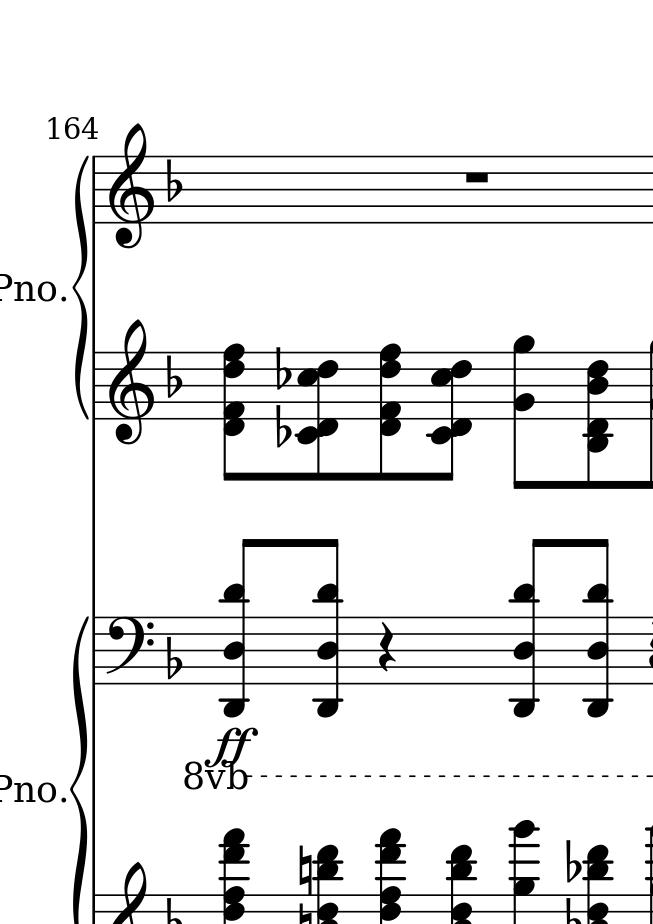1: (47, 116, 60, 142)
4: (82, 114, 100, 144)
6: (63, 114, 80, 140)
8_2_9: (511, 334, 534, 491)
8_4th: (425, 351, 472, 483), (296, 351, 342, 483), (582, 349, 613, 488), (378, 342, 402, 483), (222, 341, 245, 484)
8_th: (219, 537, 265, 719), (511, 538, 549, 717), (312, 537, 344, 720), (584, 537, 616, 718)
Brace: (75, 152, 92, 420)
Fclef: (103, 615, 154, 688)
Flat: (163, 157, 185, 206), (163, 354, 185, 401), (271, 343, 292, 392), (562, 837, 584, 883), (163, 633, 184, 680), (274, 404, 292, 450)
Gclef: (106, 122, 157, 251), (106, 319, 155, 447)
Natural: (297, 842, 314, 896)
Pno: (1, 271, 57, 306), (1, 772, 57, 807)
Rests1: (461, 167, 493, 187)
Rests4: (375, 620, 399, 676)
Single_barline: (88, 616, 103, 684), (89, 157, 102, 223), (89, 353, 102, 418), (88, 895, 101, 924)
ff: (203, 724, 261, 768)
